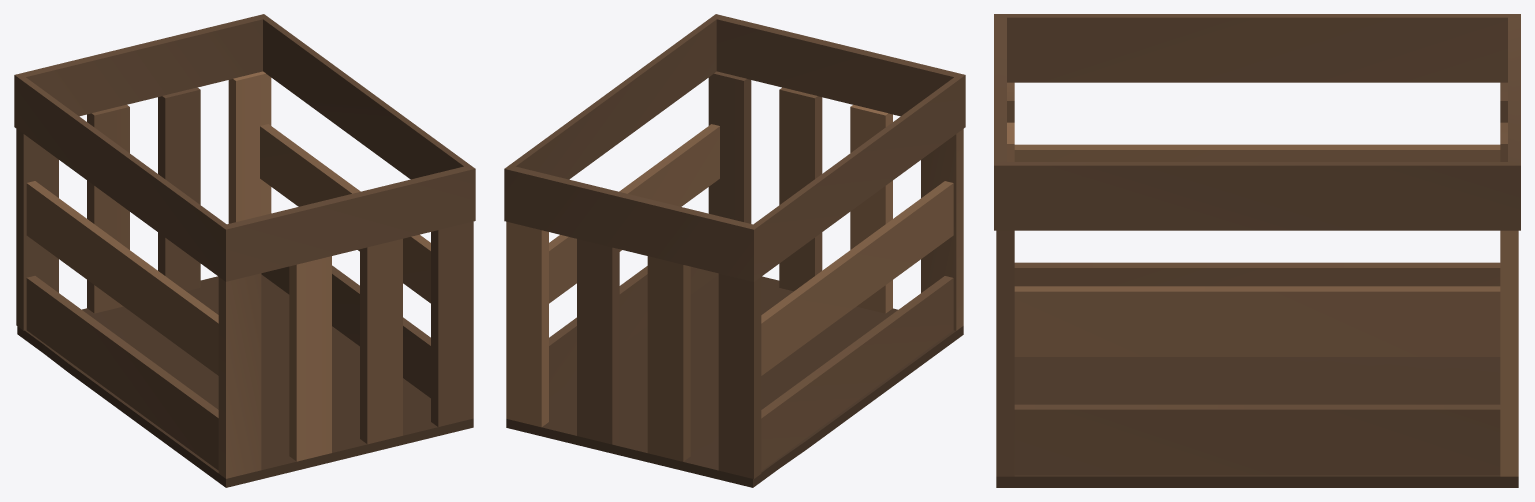
File: Small Mid Crate No Lid.fbx
3 renders of one model, left to right at view 1: azimuth 30°, elevation 25°; view 2: azimuth 150°, elevation 25°; view 3: azimuth 270°, elevation 25°, orthographic. The views are drawn at different scales.
Visible parts, largest first — view 1: Small Mid Crate No Lid; view 2: Small Mid Crate No Lid; view 3: Small Mid Crate No Lid.
Part boxes in pixels (x1,y1,x2,y2): Small Mid Crate No Lid: [14, 14, 475, 487]; Small Mid Crate No Lid: [504, 14, 965, 487]; Small Mid Crate No Lid: [994, 14, 1520, 487].
Size of the model in its own units: 138 by 204 by 139.
1 material, 1 textured.
